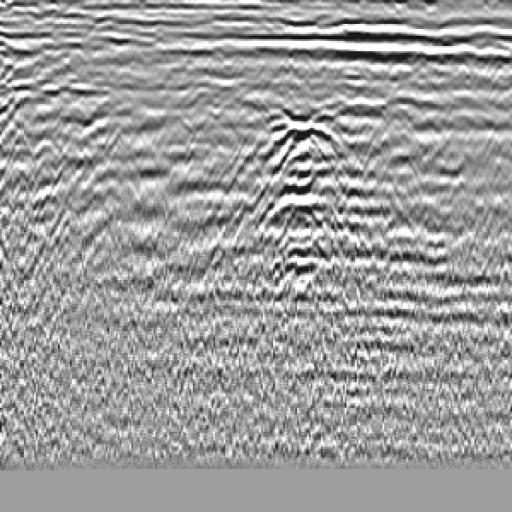metalic: (116, 65, 274, 305), (55, 75, 154, 153)
non-metallic: (189, 94, 407, 314)
